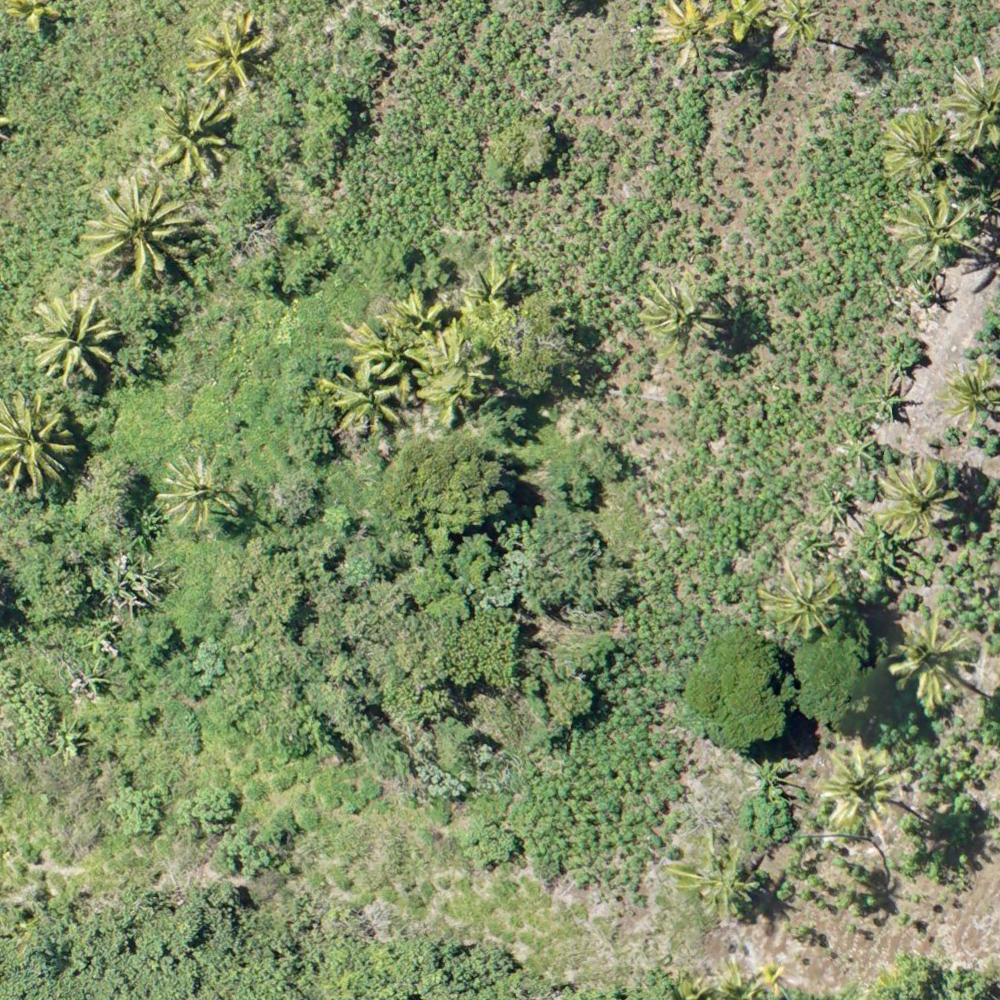Palm: (84, 183, 187, 278), (32, 294, 123, 385), (893, 613, 983, 705), (893, 185, 983, 275), (1, 401, 76, 507), (821, 738, 907, 829), (152, 96, 235, 177), (190, 16, 273, 92), (875, 457, 952, 536), (637, 274, 718, 348), (652, 1, 729, 72), (939, 64, 1000, 152), (762, 568, 839, 636), (325, 364, 399, 434), (155, 458, 224, 532), (880, 113, 952, 179), (943, 363, 1000, 424), (773, 1, 828, 49)
